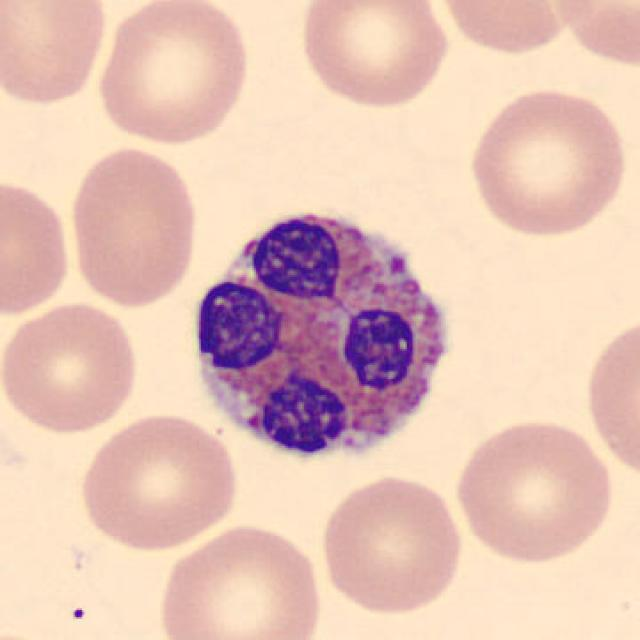Eosinophil: (180, 194, 464, 483)
RBC: (464, 83, 631, 240), (450, 414, 618, 566), (75, 409, 244, 554), (93, 2, 255, 148), (64, 143, 203, 310), (314, 471, 468, 619), (153, 520, 327, 640), (0, 298, 144, 437), (295, 0, 453, 113), (0, 0, 112, 109), (0, 173, 75, 319), (579, 308, 640, 484), (430, 0, 592, 56), (546, 0, 640, 71)
